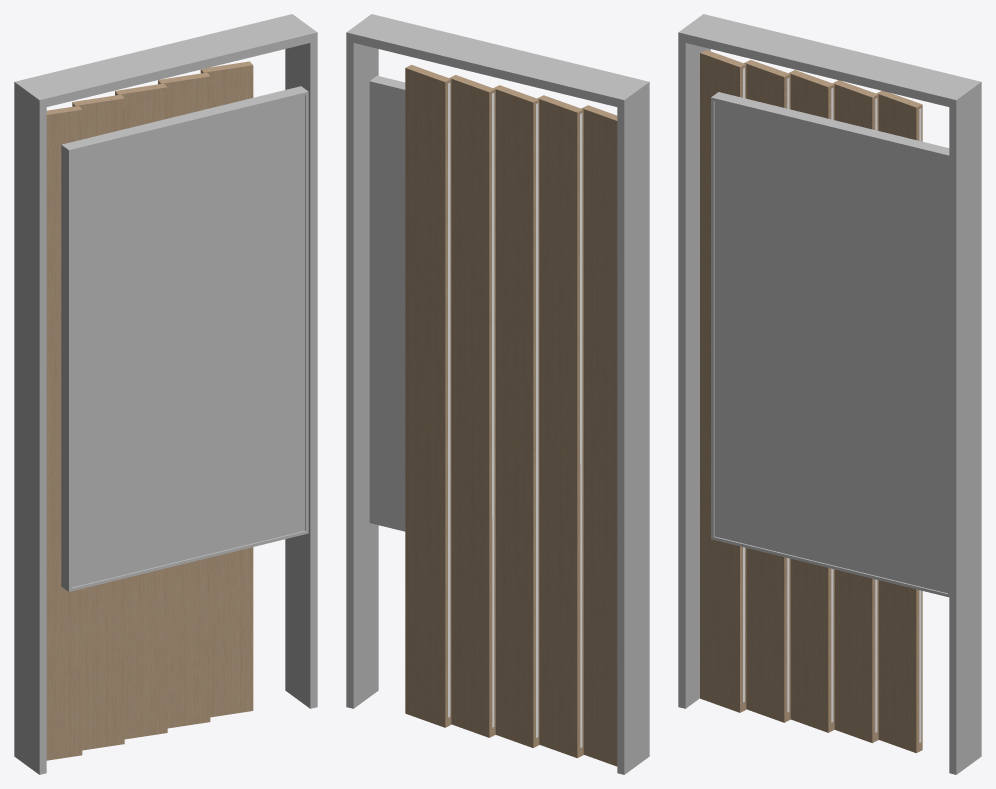
Rendered from D_Display_008.fbx.
3 views of the same model, side by side, from view 1: azimuth 30°, elevation 25°; view 2: azimuth 150°, elevation 25°; view 3: azimuth 330°, elevation 25° (orthographic).
Parts seen in each view (by area): view 1: D_Display_008; view 2: D_Display_008; view 3: D_Display_008.
Part boxes in pixels (x1,y1,x2,y2): D_Display_008: (14, 14, 317, 774); D_Display_008: (346, 14, 649, 774); D_Display_008: (678, 14, 981, 774).
Bounding box in the file's own units: 1 × 2.32 × 0.1568.
